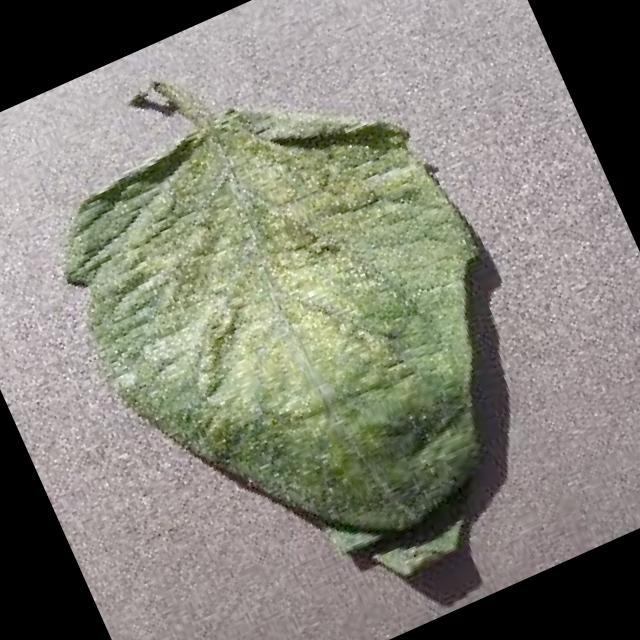Tomato spider mites leaf: (31, 41, 593, 640)
